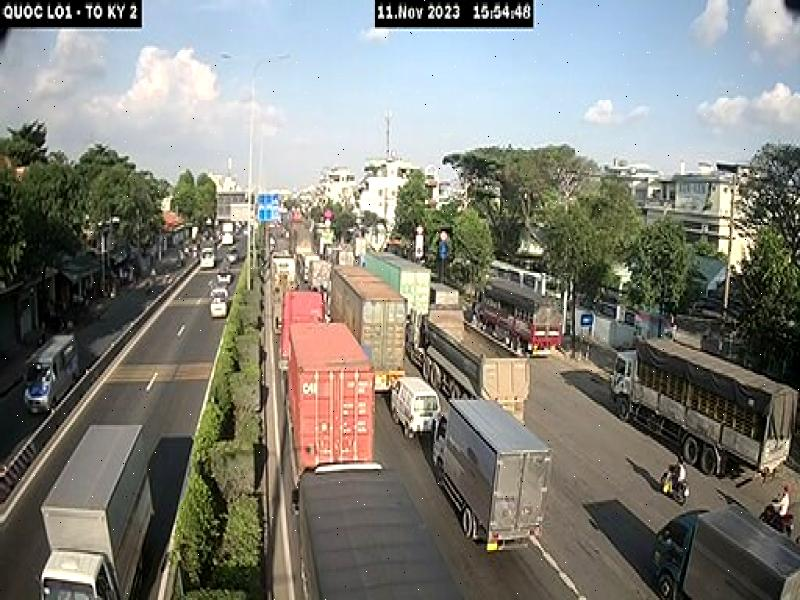truck: (610, 333, 800, 478), (39, 423, 158, 600), (433, 396, 554, 556), (278, 284, 374, 467), (412, 298, 529, 420), (651, 505, 800, 599), (326, 266, 406, 392), (464, 282, 566, 364)
